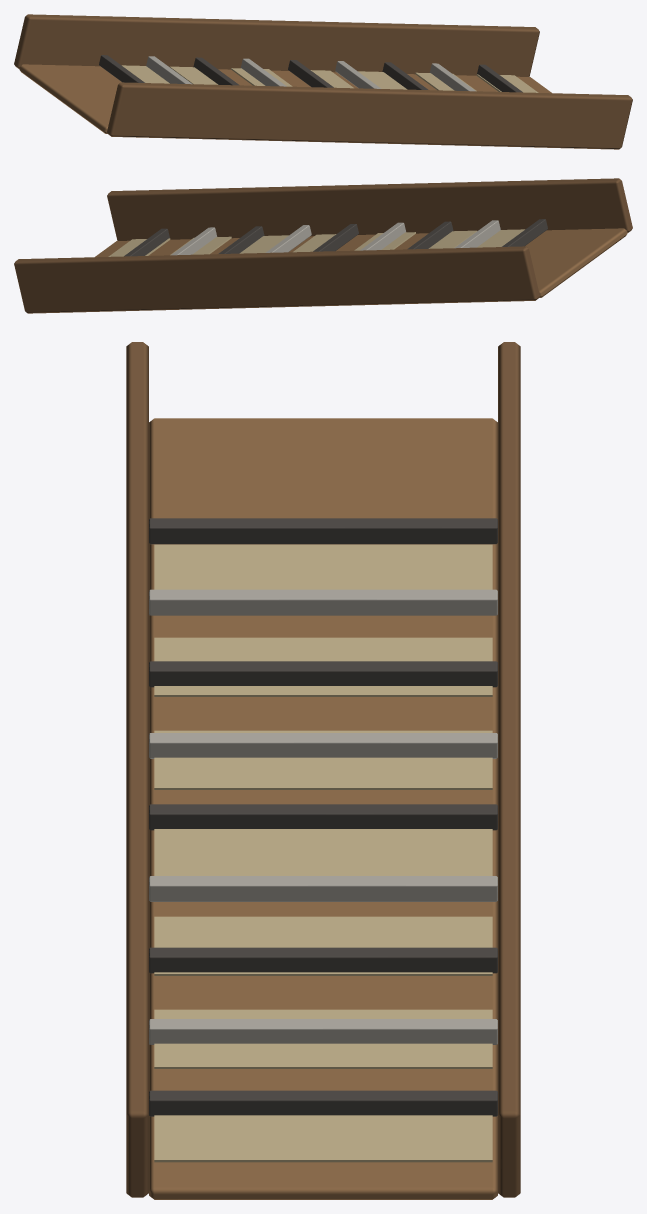
The model's file is SifterTray.glb.
3 renders of one model, top to bottom at view 1: azimuth 30°, elevation 25°; view 2: azimuth 150°, elevation 25°; view 3: azimuth 270°, elevation 25°, orthographic. The views are drawn at different scales.
Visible parts, largest first — view 1: SifterTray.001; view 2: SifterTray.001; view 3: SifterTray.001.
Part boxes in pixels (left/top/right/bottom): SifterTray.001: left=14, top=14, right=632, bottom=149; SifterTray.001: left=14, top=178, right=632, bottom=313; SifterTray.001: left=126, top=342, right=520, bottom=1199.
Size of the model in its own units: 2.15 by 0.7336 by 0.7.
